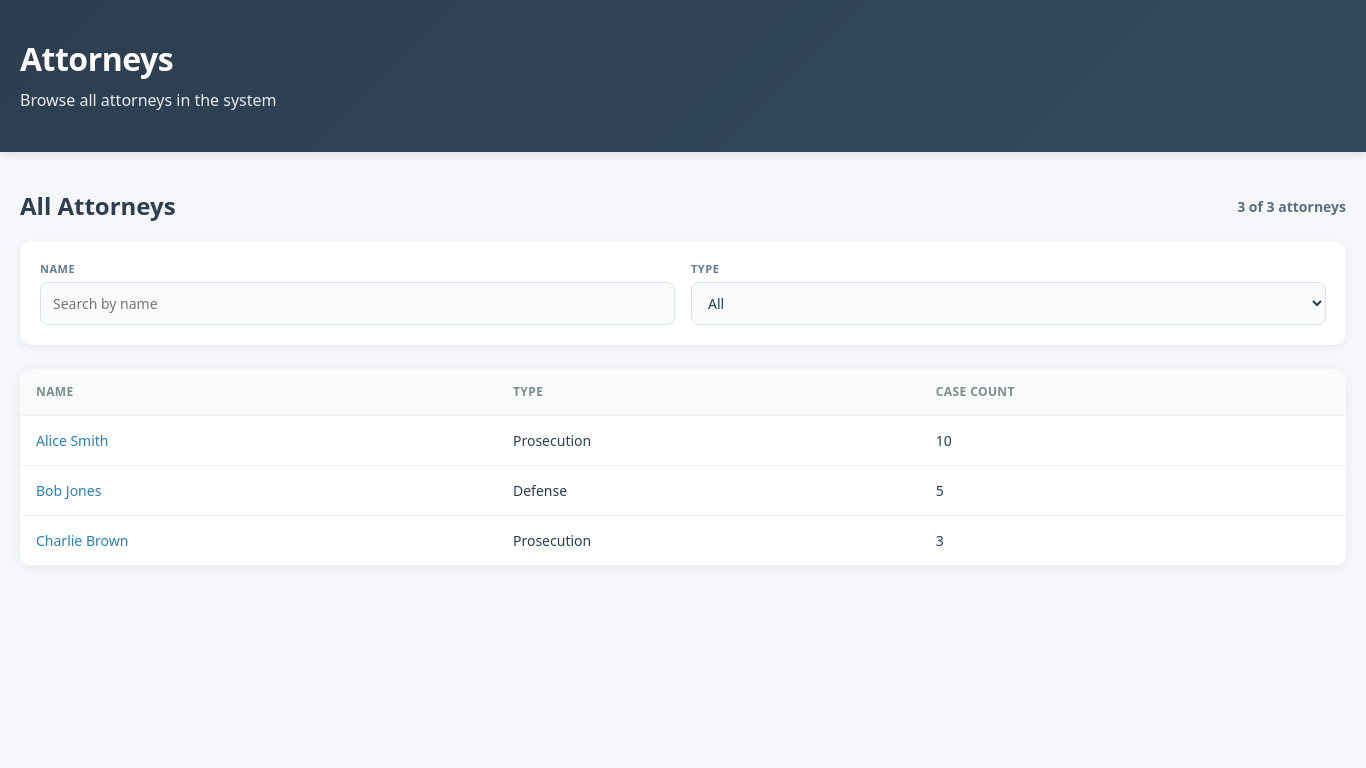
AttorneysList › filters by name search
Expected: the link "Alice Smith" is shown, left=36, top=431, right=108, bottom=450
In the search field with placeholder "Search by name": (358, 303) left=40, top=282, right=675, bottom=325, type "Bob"
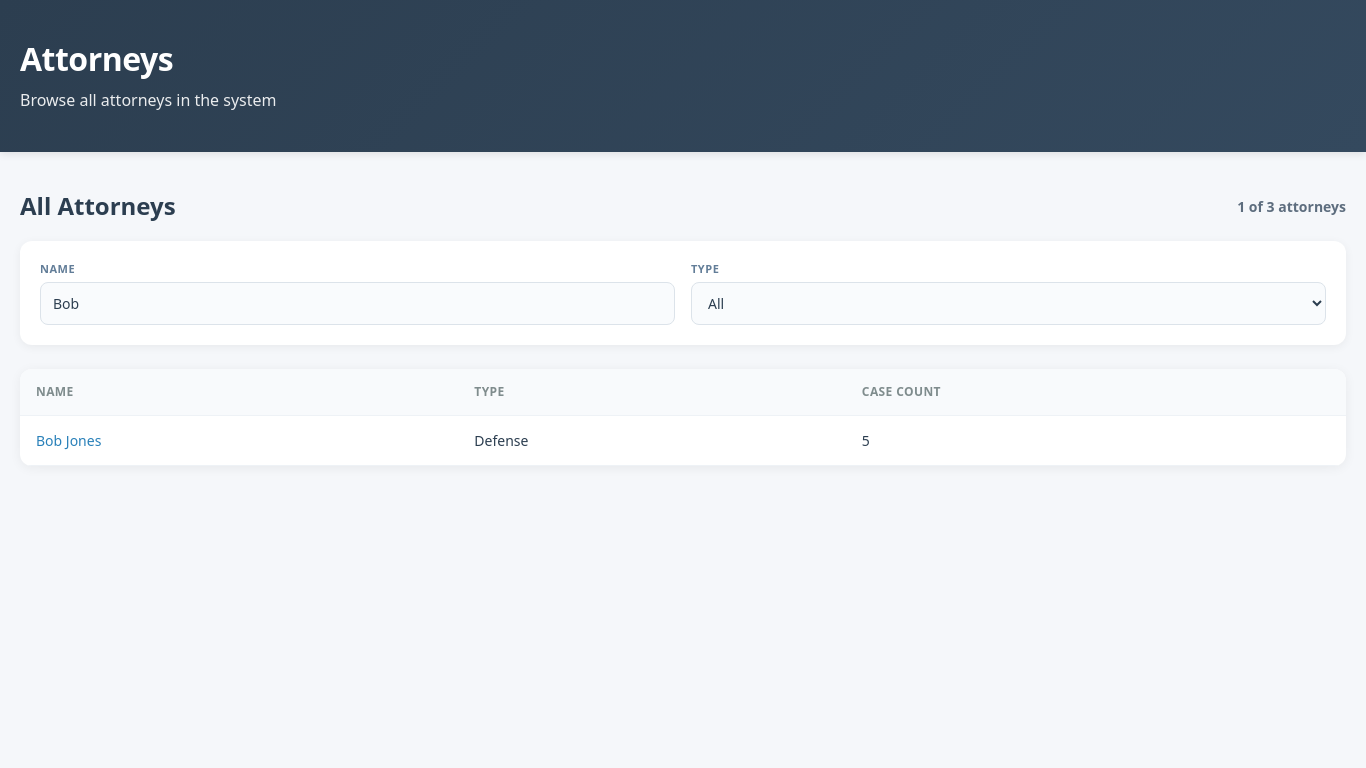
Expected: the link "Bob Jones" is shown, left=36, top=431, right=101, bottom=450
Expected: the link "Alice Smith" is gone
